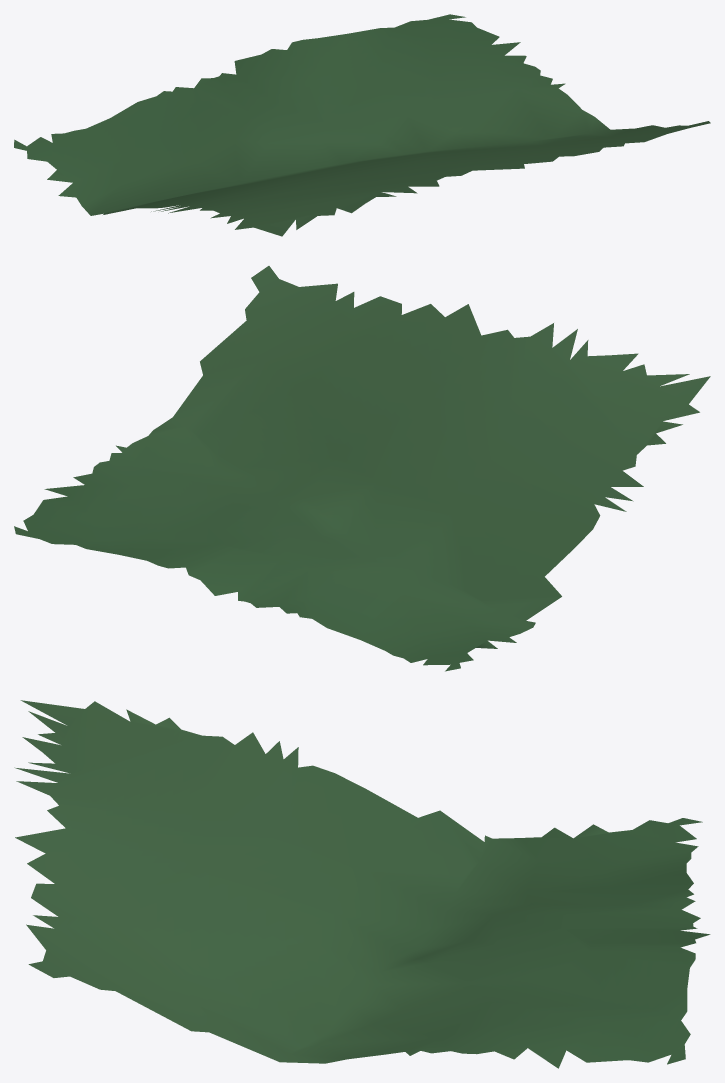
File: payo_land_x2_y9_lod2.glb
3 views of the same model, one above another, from view 1: azimuth 30°, elevation 25°; view 2: azimuth 150°, elevation 25°; view 3: azimuth 270°, elevation 25° (orthographic). The views are drawn at different scales.
Parts seen in each view (by area): view 1: payo_land_x2_y9; view 2: payo_land_x2_y9; view 3: payo_land_x2_y9.
Part boxes in pixels (left/top/right/bottom): payo_land_x2_y9: left=14, top=14, right=710, bottom=236; payo_land_x2_y9: left=14, top=266, right=710, bottom=671; payo_land_x2_y9: left=14, top=700, right=710, bottom=1068.
Bounding box in the file's own units: 278 × 70.05 × 275.
